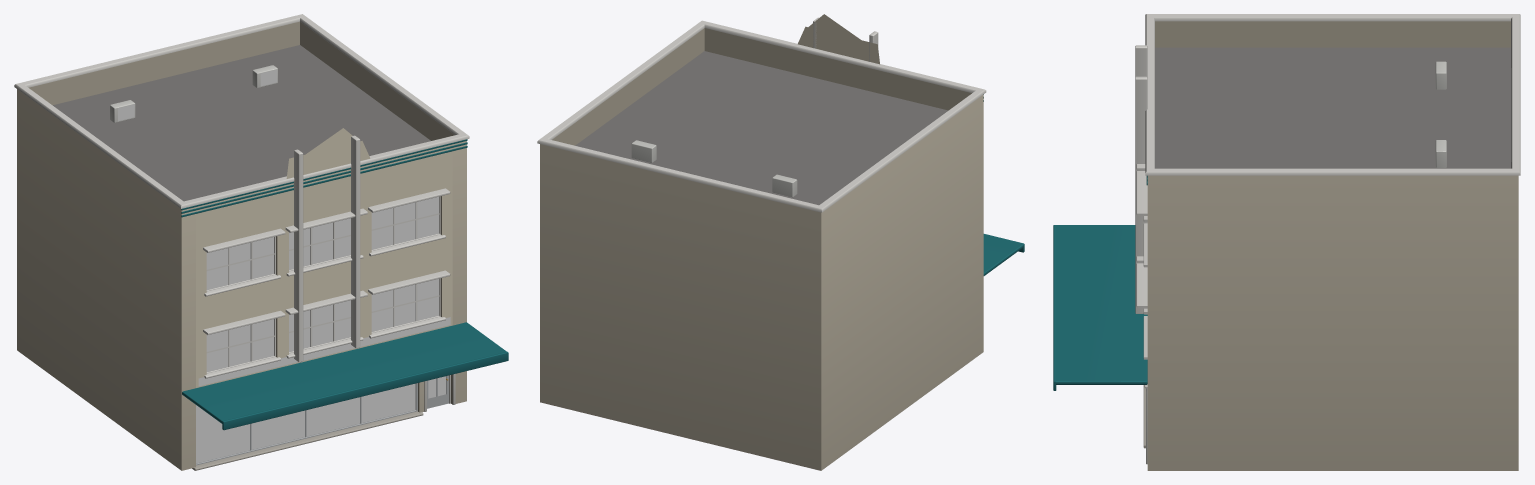
File: DecoArcadeMIA.fbx
3 renders of one model, left to right at view 1: azimuth 30°, elevation 25°; view 2: azimuth 150°, elevation 25°; view 3: azimuth 270°, elevation 25°, orthographic. The views are drawn at different scales.
Parts seen in each view (by area): view 1: DecoArcadeMIA; view 2: DecoArcadeMIA; view 3: DecoArcadeMIA.
Boxes of the visible parts, x1,y1,x2,y2 form: DecoArcadeMIA: (14,14,508,470); DecoArcadeMIA: (537,14,1024,470); DecoArcadeMIA: (1053,14,1520,470).
Bounding box in the file's own units: 12.14 × 12.27 × 15.12.
